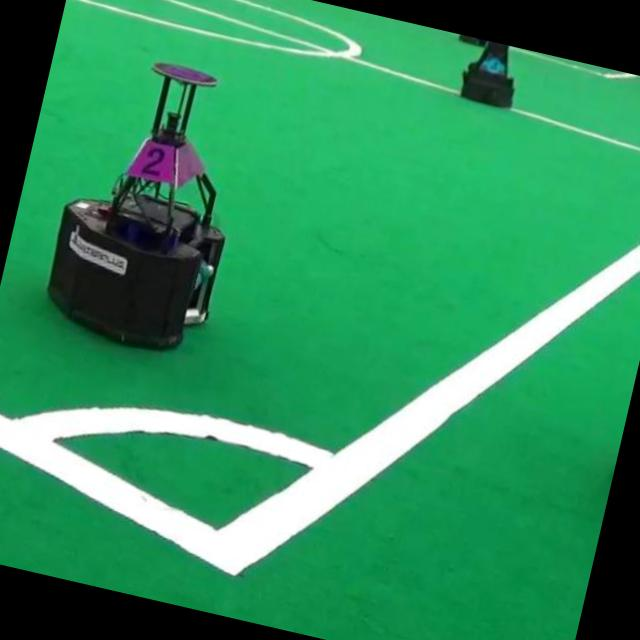robot: (47, 62, 224, 349), (460, 40, 513, 107)
